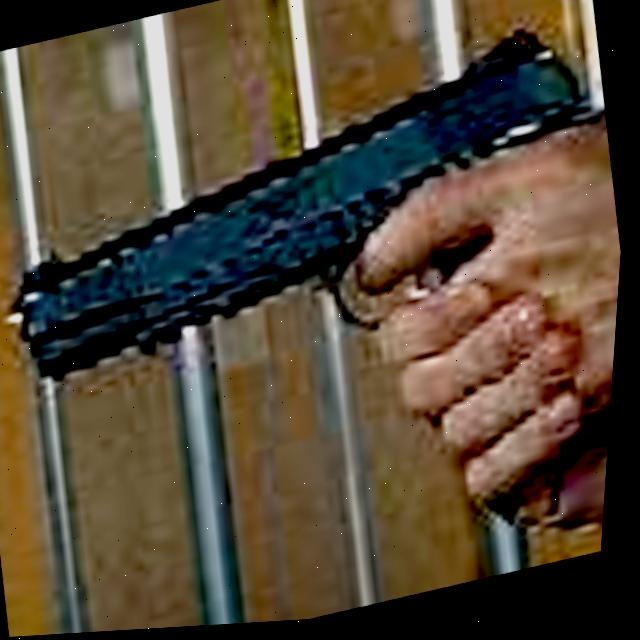pistol: (0, 5, 638, 640)
